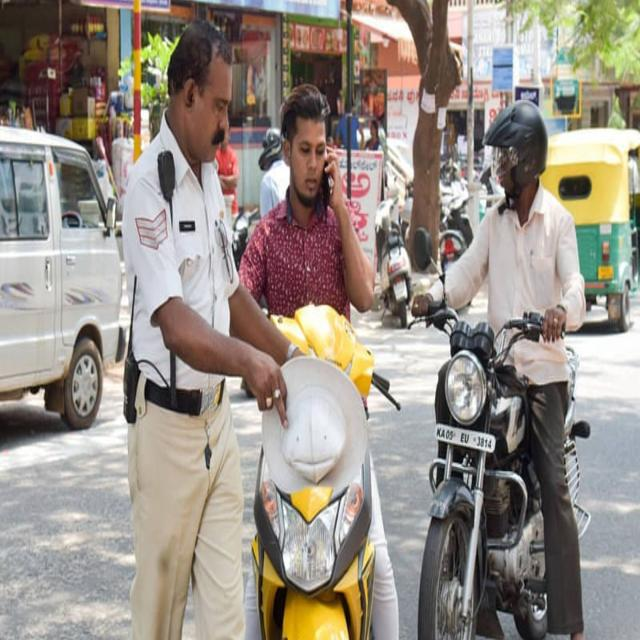autorickshaw: (541, 129, 640, 331)
car: (0, 127, 125, 429)
motorcycle: (411, 100, 589, 640), (240, 84, 398, 640), (375, 196, 411, 329)
